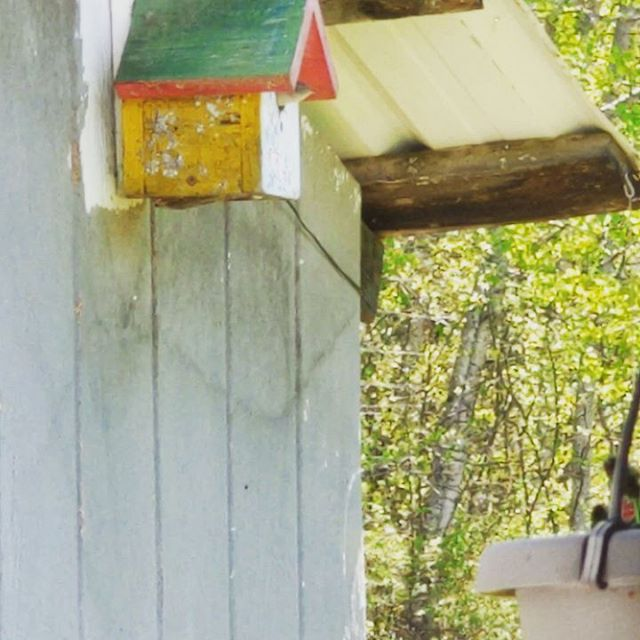building: (1, 8, 618, 640)
vegetation: (372, 234, 623, 630)
